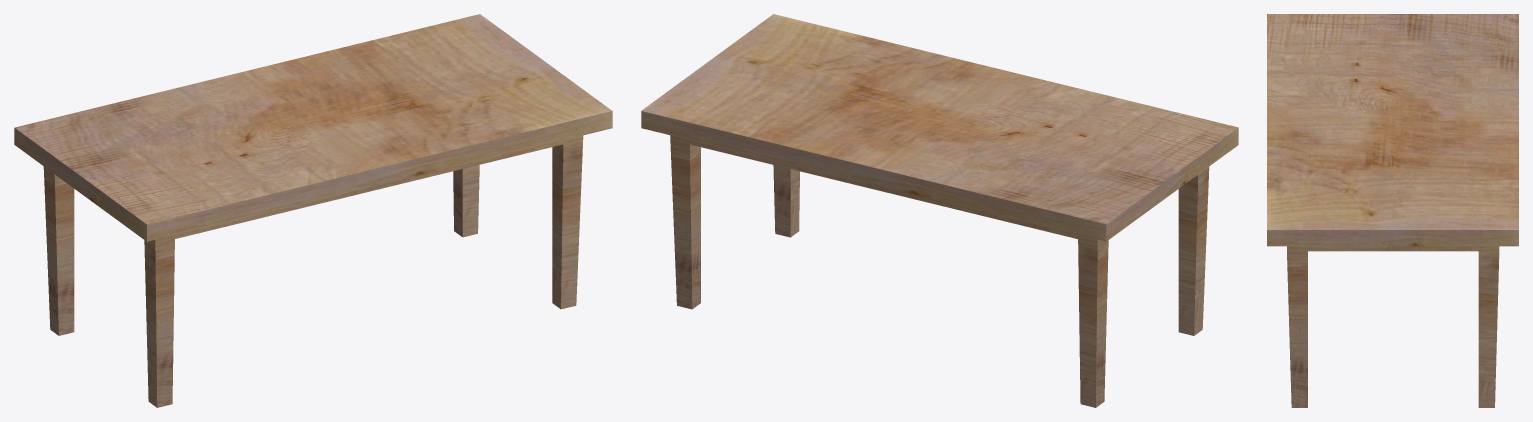
File: stalas.obj
The picture shows the model from 3 angles, left to right: view 1: azimuth 30°, elevation 25°; view 2: azimuth 150°, elevation 25°; view 3: azimuth 270°, elevation 25°; orthographic projection. The views are drawn at different scales.
Bounding box in the file's own units: 1.97 × 0.8031 × 0.971.
Materials: 1 (1 with a texture image).
